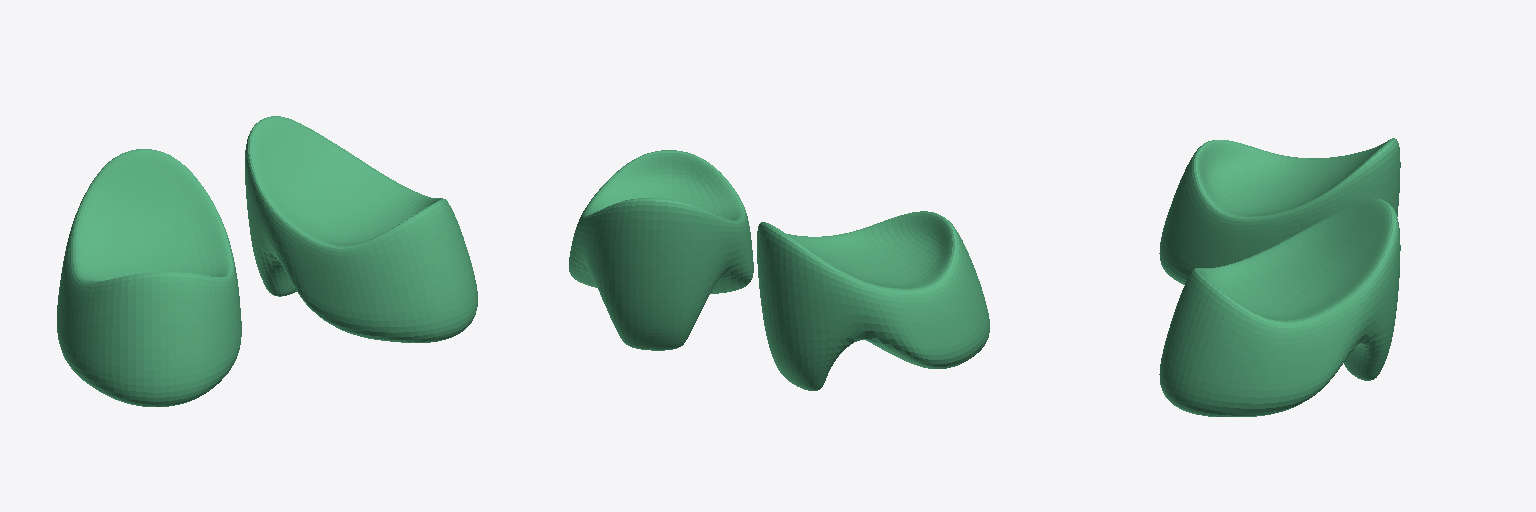
The model's file is high_heels.obj.
3 renders of one model, left to right at view 1: azimuth 30°, elevation 25°; view 2: azimuth 150°, elevation 25°; view 3: azimuth 270°, elevation 25°, orthographic.
Visible parts, largest first — view 1: high_heels; view 2: high_heels; view 3: high_heels.
Boxes of the visible parts, box(x1,y1,x2,y2) form: high_heels: box(57, 116, 477, 406); high_heels: box(569, 150, 989, 390); high_heels: box(1159, 138, 1400, 416).
Size of the model in its own units: 17.43 by 7.07 by 9.41.